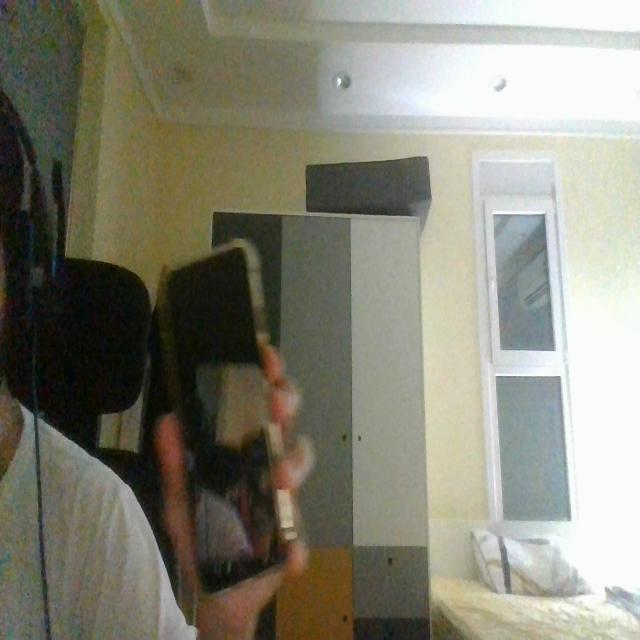Phone: (156, 240, 303, 598)
